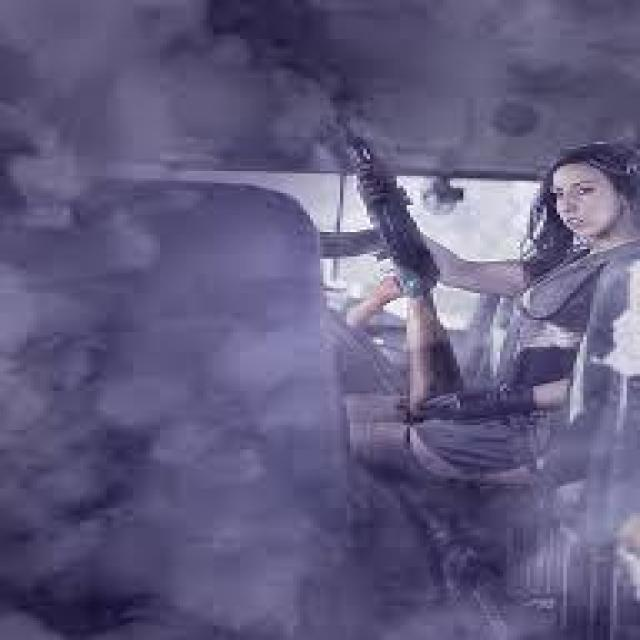Smoke: (0, 0, 363, 625), (396, 482, 640, 634), (388, 0, 552, 130)
